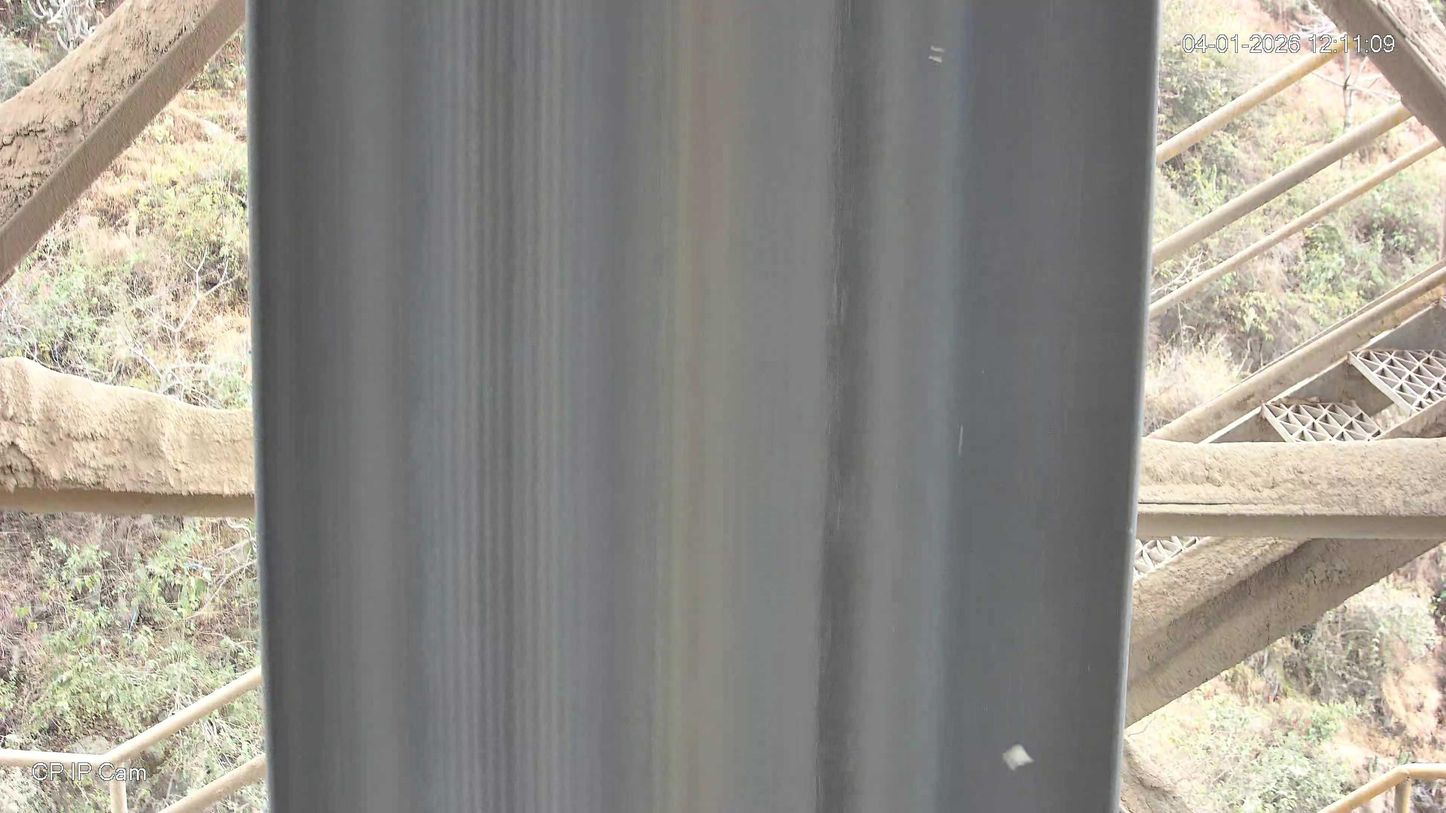belt_roi: (245, 0, 1161, 813)
